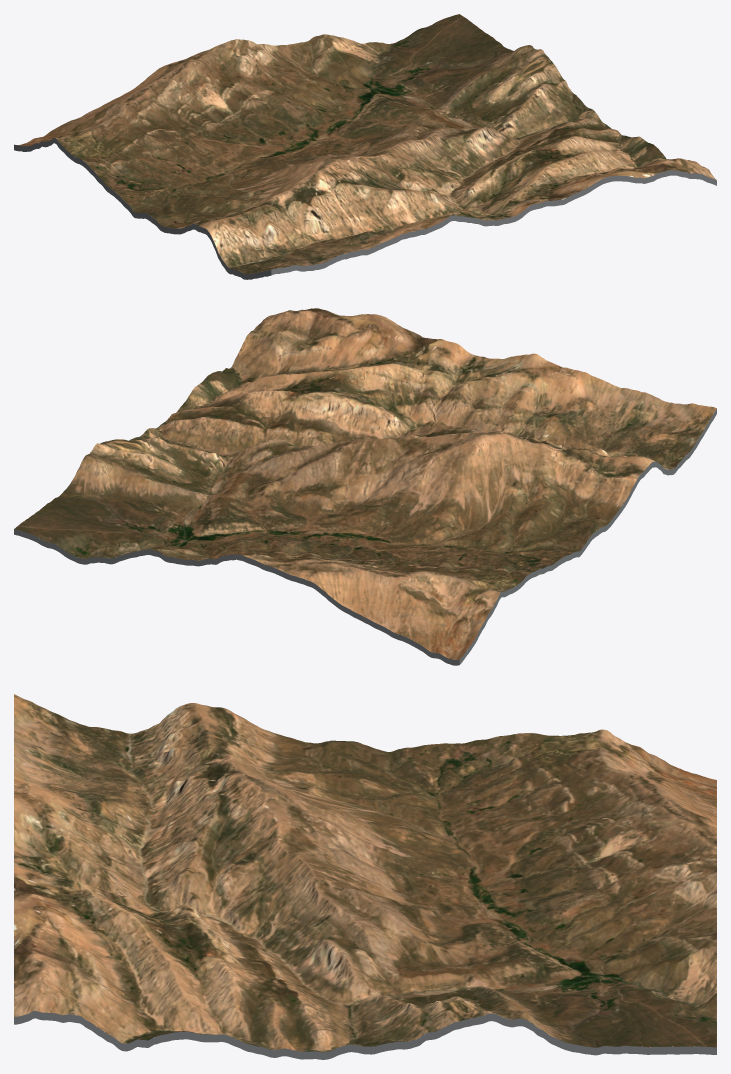
3 renders of one model, top to bottom at view 1: azimuth 30°, elevation 25°; view 2: azimuth 150°, elevation 25°; view 3: azimuth 270°, elevation 25°, orthographic. The views are drawn at different scales.
Visible parts, largest first — view 1: terrain, skirt; view 2: terrain, skirt; view 3: terrain, skirt.
Part boxes in pixels (bbox=[...]): terrain: bbox=[16, 14, 715, 274]; skirt: bbox=[14, 137, 716, 279]; terrain: bbox=[14, 308, 716, 659]; skirt: bbox=[14, 409, 716, 665]; terrain: bbox=[14, 694, 716, 1052]; skirt: bbox=[14, 1010, 716, 1059].
Size of the model in its own units: 7500 by 1306 by 7500.
1 material, 1 textured.
